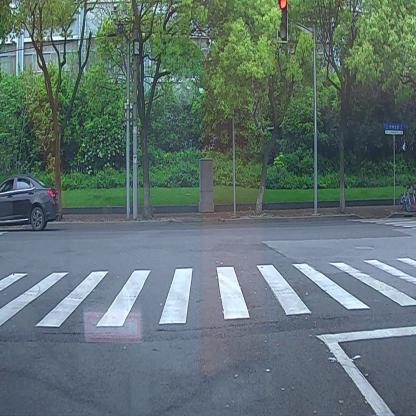Red Light: (276, 0, 290, 44)
